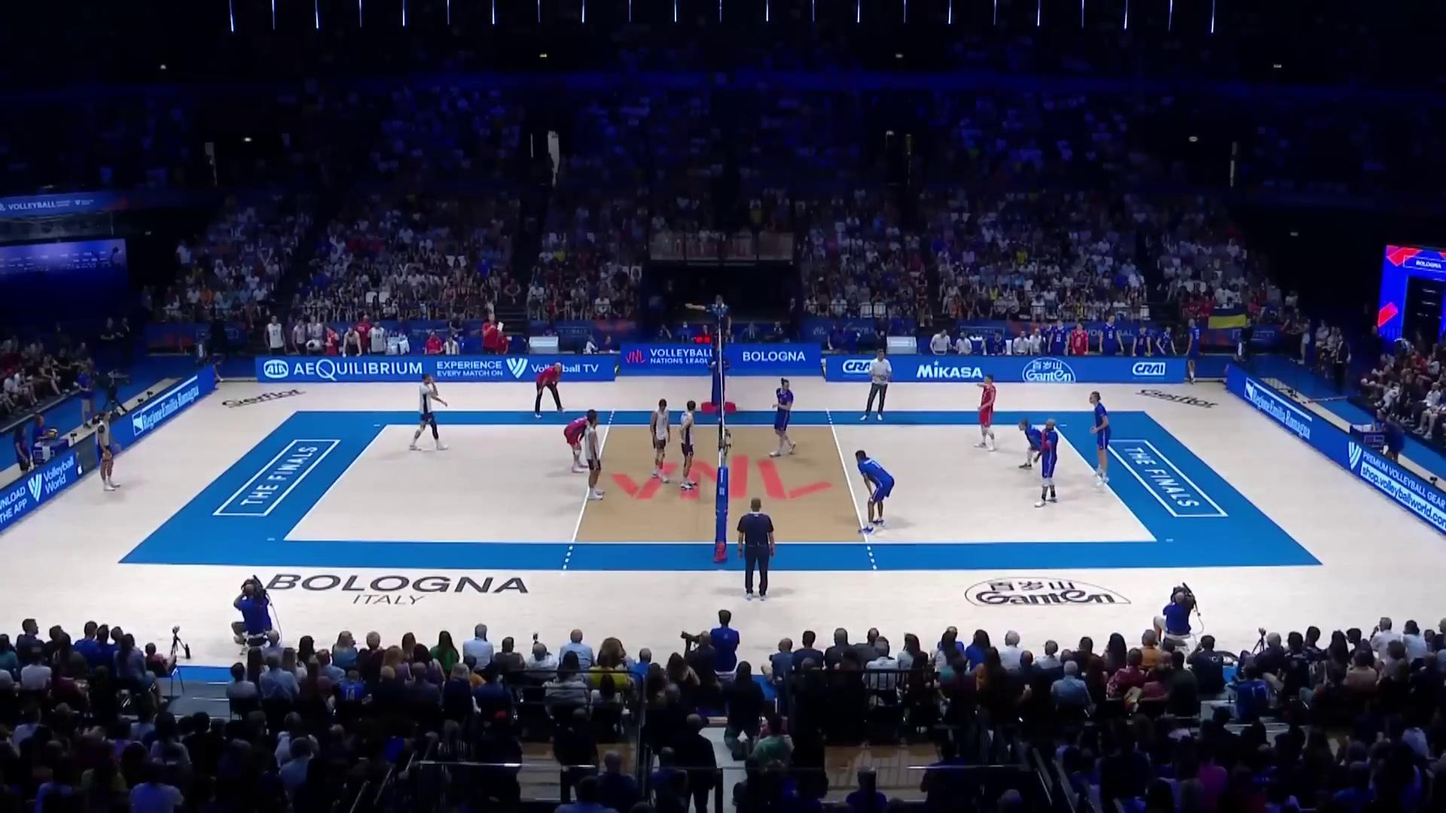player: (848, 450, 897, 534), (409, 374, 449, 450), (1033, 419, 1060, 509), (1087, 391, 1111, 489), (649, 398, 674, 486), (582, 412, 606, 500), (564, 410, 597, 473), (773, 378, 797, 454), (96, 412, 118, 492), (682, 401, 701, 490), (975, 374, 996, 451), (1016, 419, 1043, 472)
refree: (740, 501, 779, 597), (708, 292, 732, 364)
